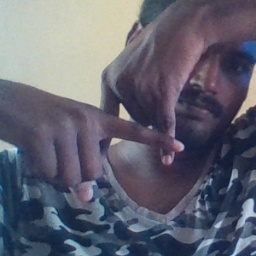H: (72, 65, 195, 178)
